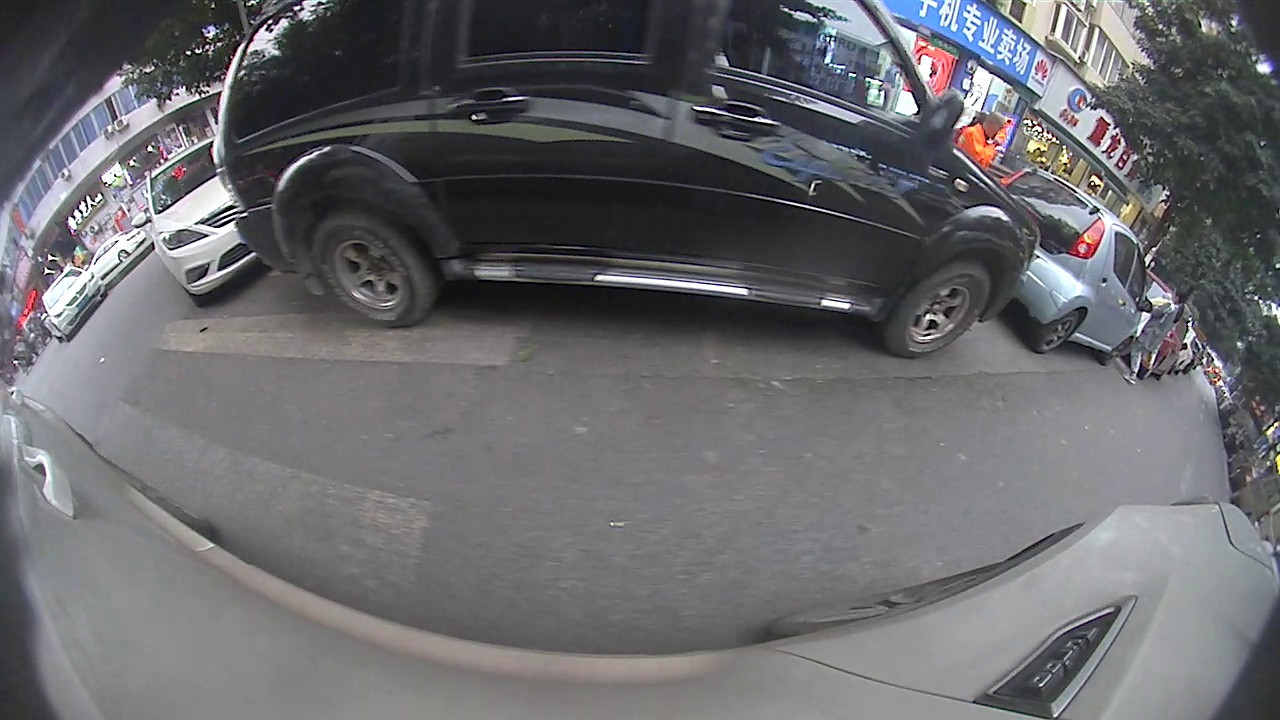car: (211, 2, 1043, 361), (994, 166, 1148, 367), (145, 134, 271, 310), (38, 263, 108, 343), (85, 226, 146, 280)
front: (885, 264, 1002, 359), (1096, 336, 1134, 368)
person: (1121, 286, 1188, 383)
rear: (306, 204, 425, 328), (1035, 310, 1087, 353), (117, 249, 130, 264)
